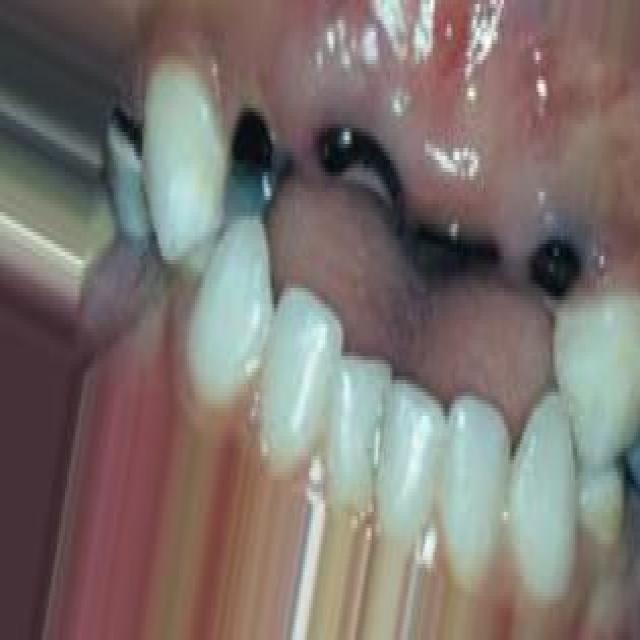caries: (316, 107, 406, 229), (217, 97, 292, 229), (408, 195, 508, 292), (520, 216, 595, 320), (107, 95, 151, 187)
